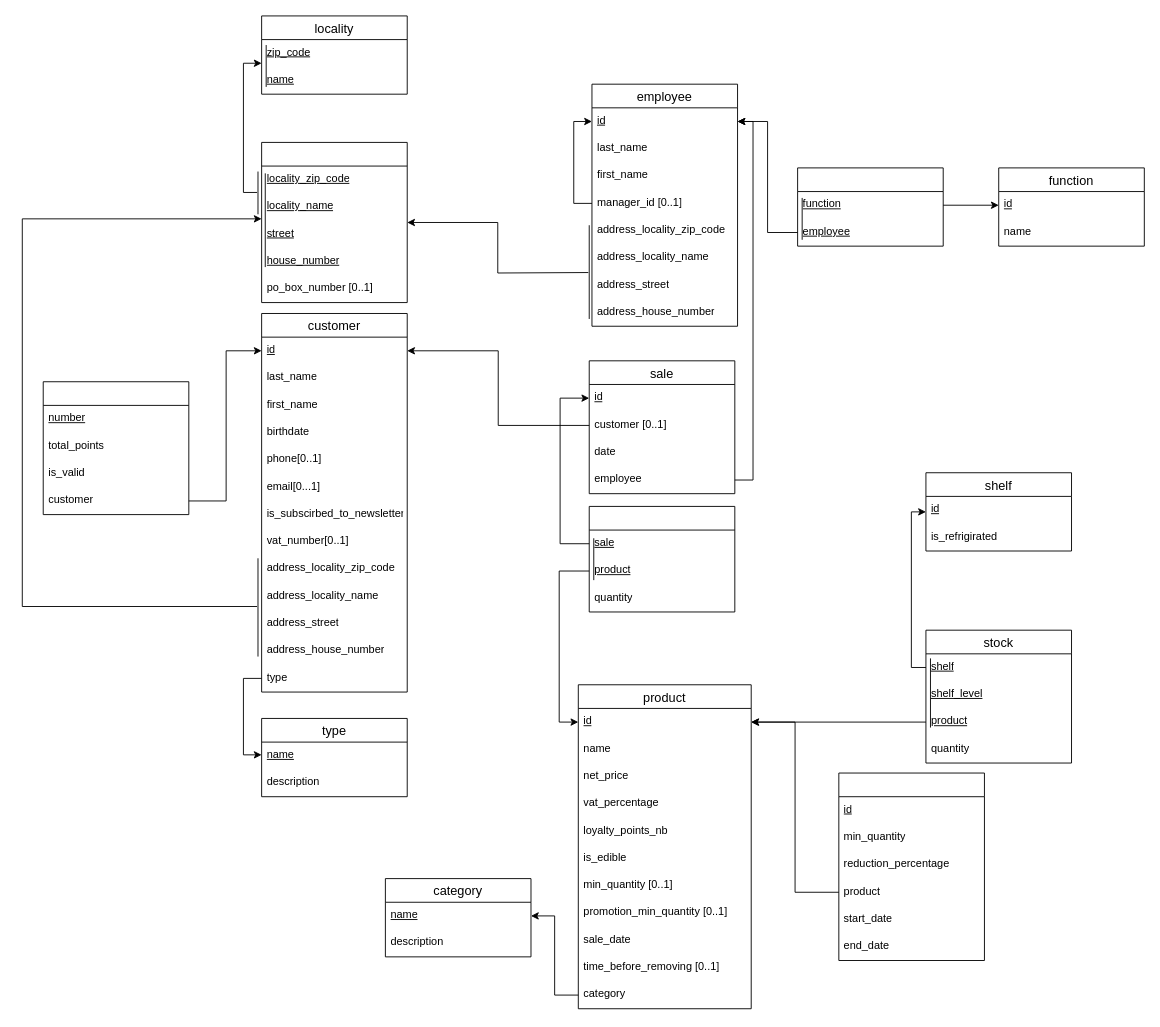
Some shapes in this 1160 by 1027 pixel diagram are drawn without their labels. Here are the shapes that lost their labels. From the top down, the box of each, then its label:
(261, 142, 407, 303): address
(797, 167, 943, 246): role
(42, 381, 189, 515): loyalty_card
(588, 506, 735, 612): command_line
(838, 772, 984, 961): promotion
